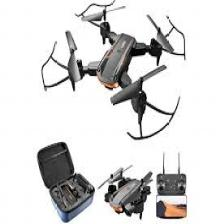drone: (34, 0, 196, 148)
